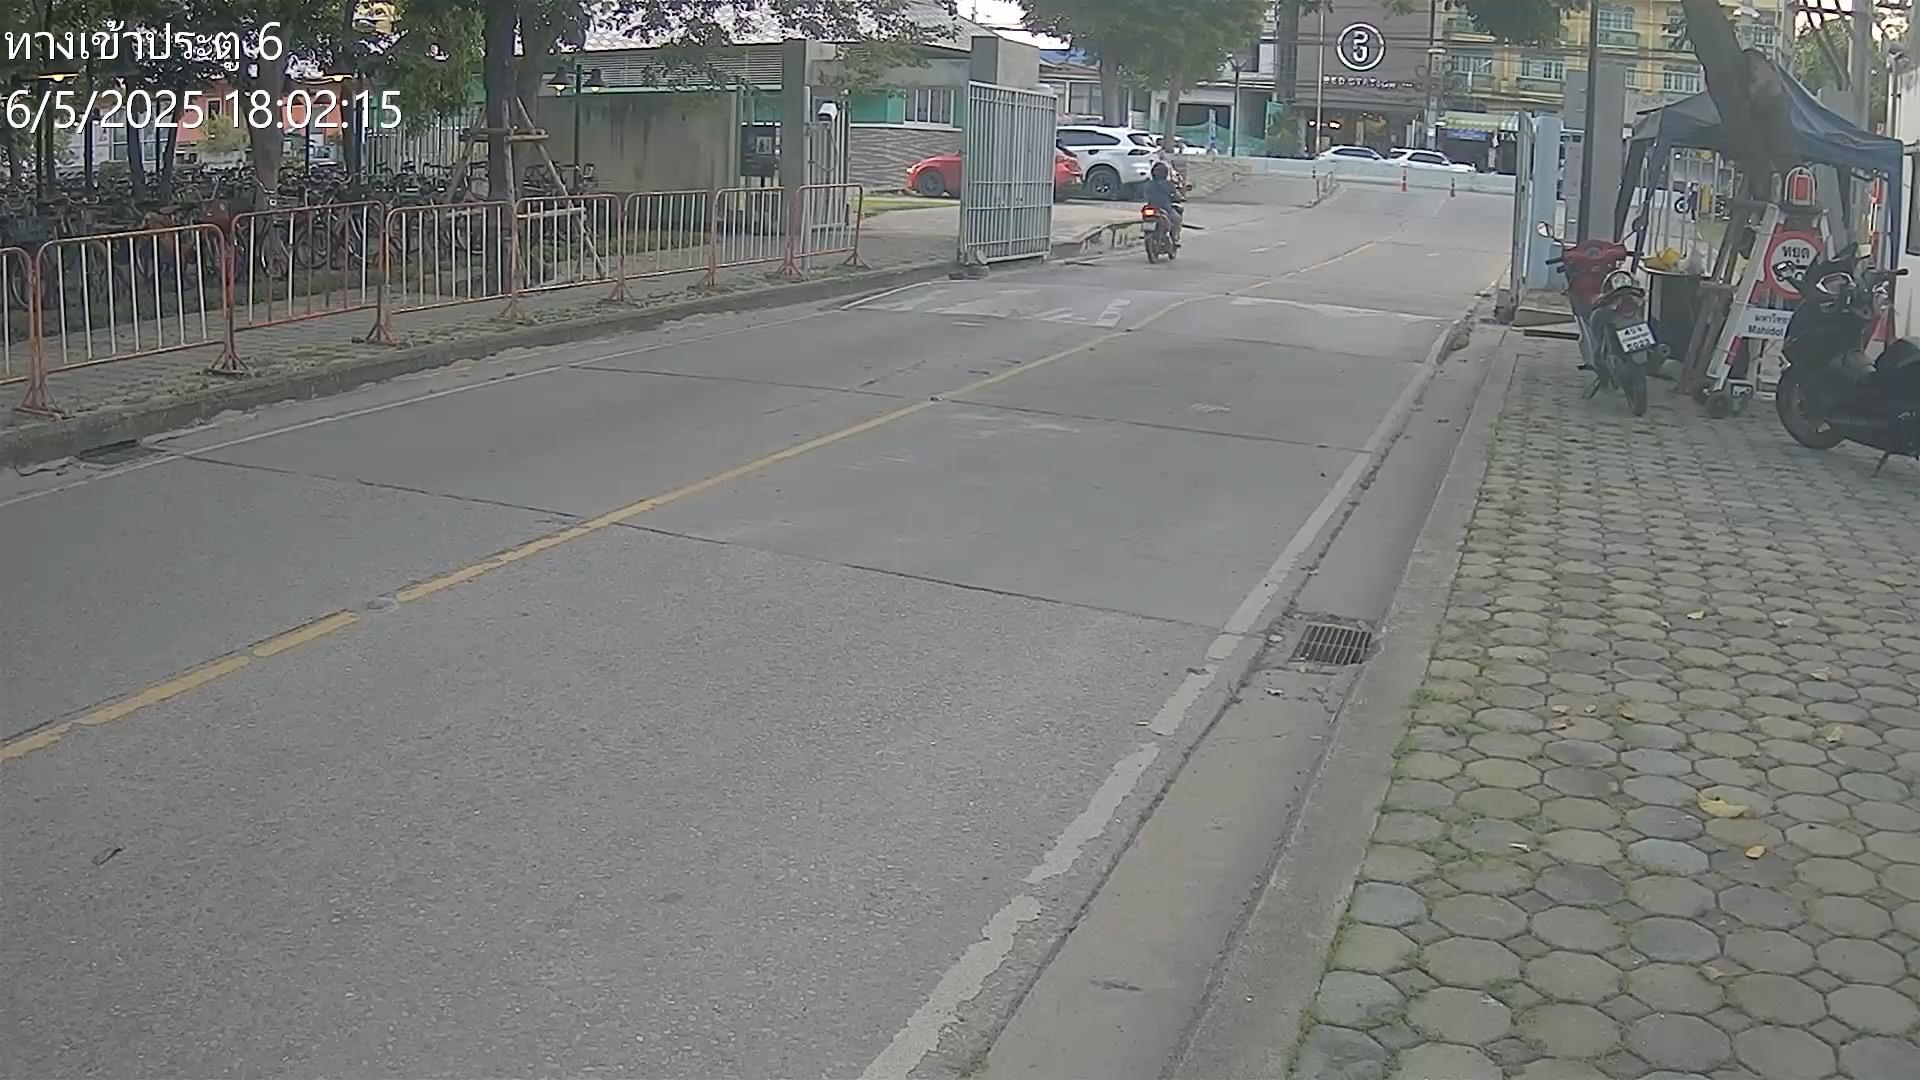With-Helmet: (1151, 161, 1168, 181)
